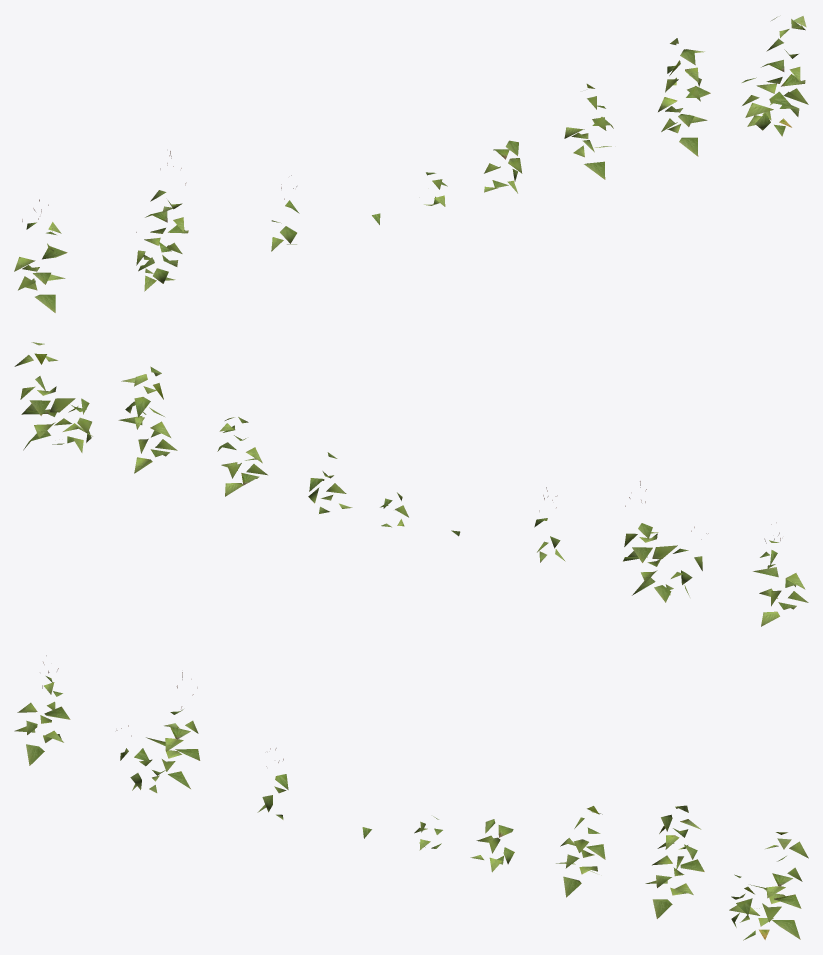
Rendered from shrub.glb.
3 views of the same model, one above another, from view 1: azimuth 30°, elevation 25°; view 2: azimuth 150°, elevation 25°; view 3: azimuth 330°, elevation 25° (orthographic). The views are drawn at different scales.
Parts seen in each view (by area): view 1: shrub_01_a; view 2: shrub_01_a; view 3: shrub_01_a.
Part boxes in pixels (box(x1,y1,x2,y2)): shrub_01_a: box(14, 16, 808, 312); shrub_01_a: box(14, 342, 808, 626); shrub_01_a: box(14, 655, 808, 940).
Size of the model in its own units: 2.59 by 0.38 by 0.2057.
Materials: 1 (1 with a texture image).
